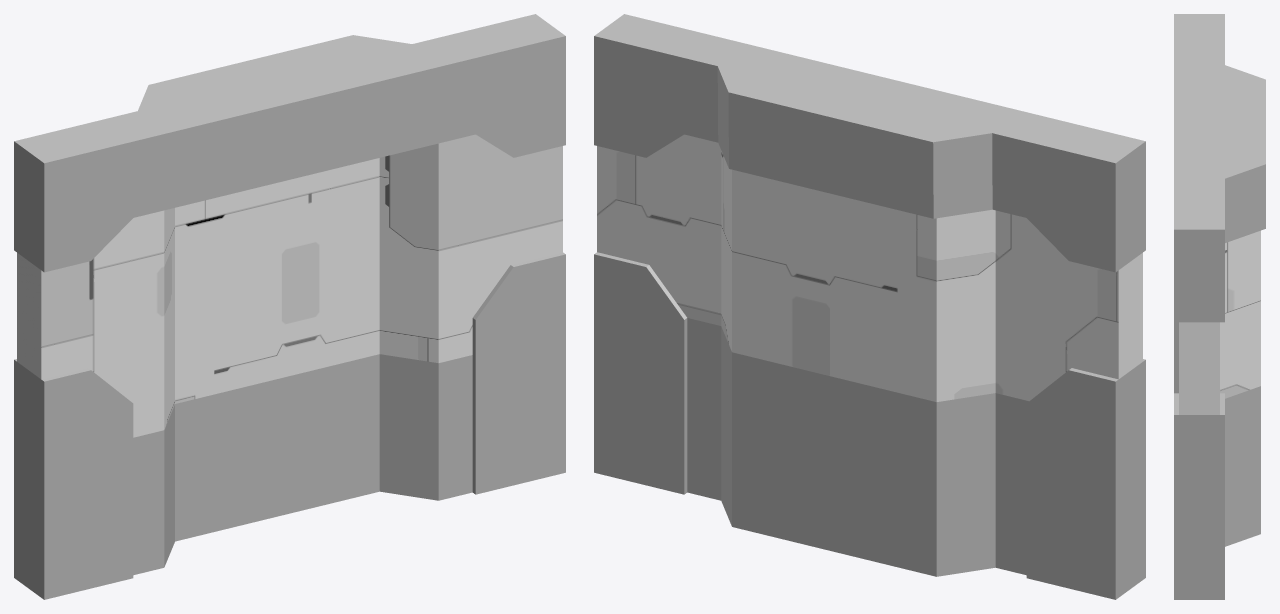
File: SM_Wall_5x3_2.fbx
3 views of the same model, side by side, from view 1: azimuth 30°, elevation 25°; view 2: azimuth 150°, elevation 25°; view 3: azimuth 270°, elevation 25° (orthographic). The views are drawn at different scales.
Parts seen in each view (by area): view 1: SM_Wall_5x3_2; view 2: SM_Wall_5x3_2; view 3: SM_Wall_5x3_2.
Part boxes in pixels (x1=…): SM_Wall_5x3_2: x1=14, y1=14, x2=565, y2=599; SM_Wall_5x3_2: x1=594, y1=14, x2=1145, y2=599; SM_Wall_5x3_2: x1=1174, y1=14, x2=1265, y2=599.
Size of the model in its own units: 500 by 400 by 90.
